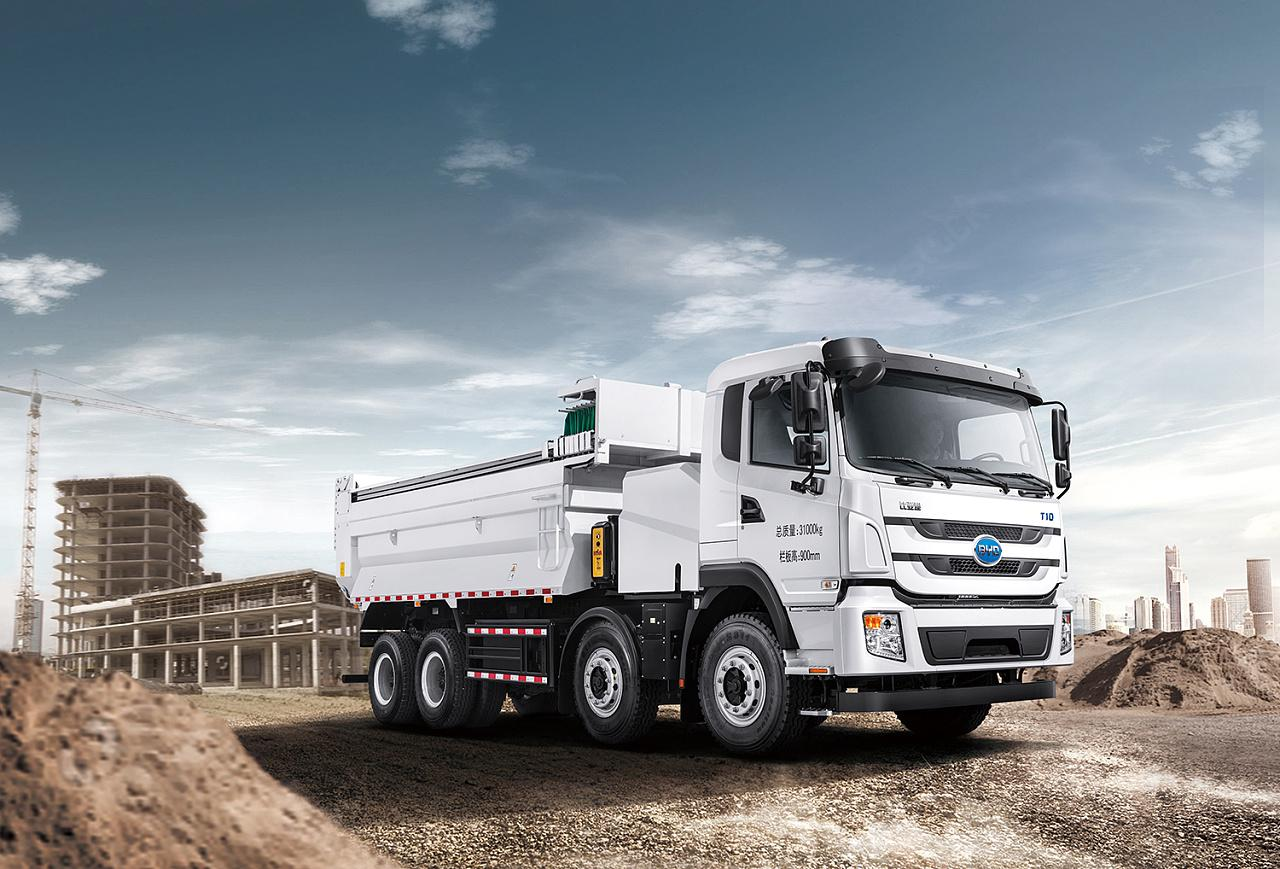truck: (302, 335, 1101, 763)
